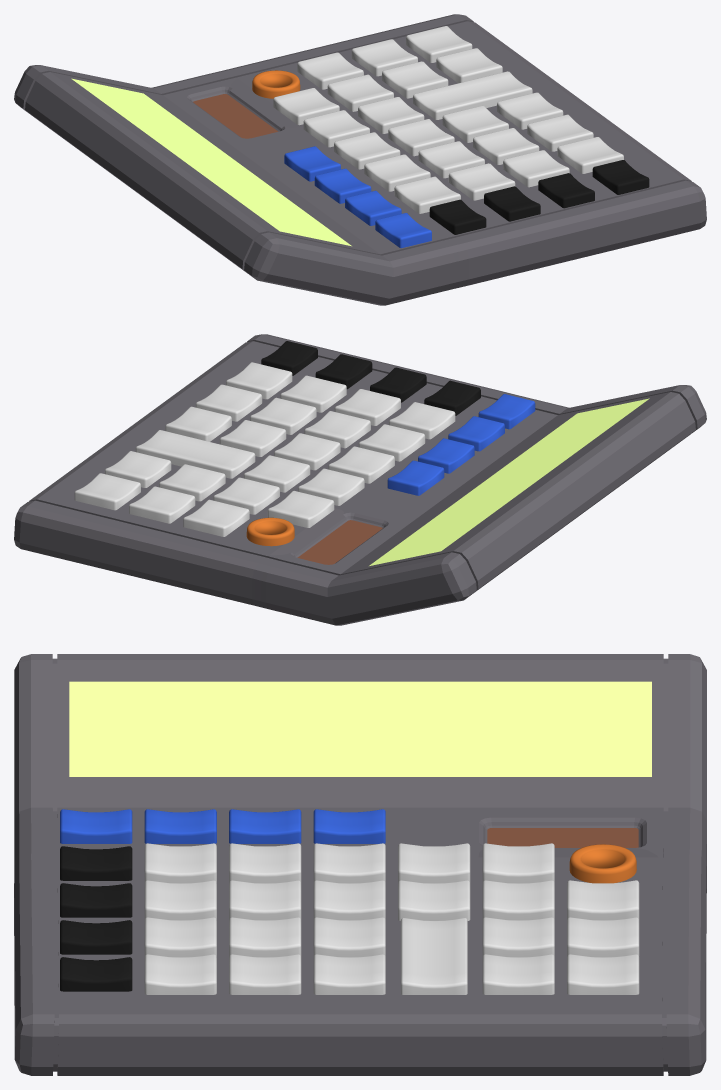
Rendered from calculator.glb.
The picture shows the model from 3 angles, top to bottom: view 1: azimuth 30°, elevation 25°; view 2: azimuth 150°, elevation 25°; view 3: azimuth 270°, elevation 25°; orthographic projection. The views are drawn at different scales.
Visible parts, largest first — view 1: Body, Key_plus, Key_minus, Key_4, Key_equals, Key_7, Key_1, Key_0, Key_5, Key_percent, Key_sqrt, Key_6 (+20 smaller); view 2: Body, Key_plus, Key_recip, Key_mu, Key_ans, Key_sqrt, Key_3, Key_dot, Key_times, Key_7, Key_8, Key_6 (+20 smaller); view 3: Body, Key_plus, Key_ans, Key_00, Key_0, Key_dot, Key_equals, Key_times, Key_5, Key_recip, Key_4, Key_7 (+20 smaller).
Part boxes in pixels (x1,y1,x2,y2): Body: (14, 14, 706, 305); Key_plus: (413, 71, 532, 119); Key_minus: (382, 61, 448, 98); Key_4: (448, 163, 515, 200); Key_equals: (436, 48, 502, 83); Key_7: (394, 176, 460, 213); Key_1: (503, 150, 569, 187); Key_0: (557, 137, 623, 173); Key_5: (418, 141, 484, 178); Key_percent: (303, 110, 369, 147); Key_sqrt: (273, 88, 339, 125); Key_6: (388, 119, 454, 156); Body: (14, 334, 706, 625); Key_plus: (135, 430, 255, 478); Key_recip: (183, 499, 249, 536); Key_mu: (129, 486, 195, 523); Key_ans: (74, 473, 140, 510); Key_sqrt: (267, 490, 334, 527); Key_3: (219, 420, 286, 456); Key_dot: (165, 406, 231, 441); Key_times: (243, 455, 310, 492); Key_7: (389, 402, 455, 439); Key_8: (358, 424, 425, 461); Key_6: (274, 433, 340, 470); Body: (14, 654, 706, 1075); Key_plus: (400, 918, 467, 994); Key_ans: (567, 954, 639, 994); Key_00: (229, 954, 301, 994); Key_0: (144, 954, 216, 994); Key_dot: (313, 954, 385, 994); Key_equals: (482, 954, 554, 994); Key_times: (398, 880, 470, 920); Key_5: (229, 880, 301, 920); Key_recip: (567, 880, 639, 920); Key_4: (144, 880, 216, 920); Key_7: (144, 843, 216, 883).
Size of the model in its own units: 0.4761 by 0.0939 by 0.4514.
